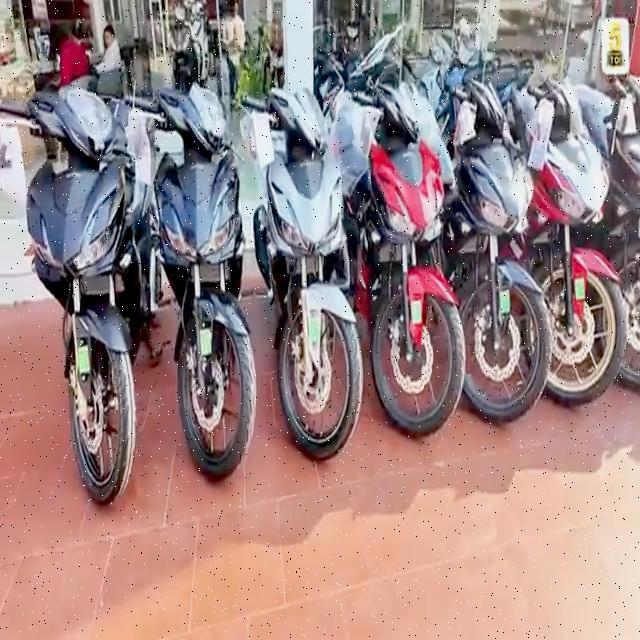motorcycle: (16, 73, 163, 516), (145, 81, 265, 523), (241, 71, 371, 459), (509, 52, 637, 426), (344, 85, 471, 448), (442, 69, 550, 432)
